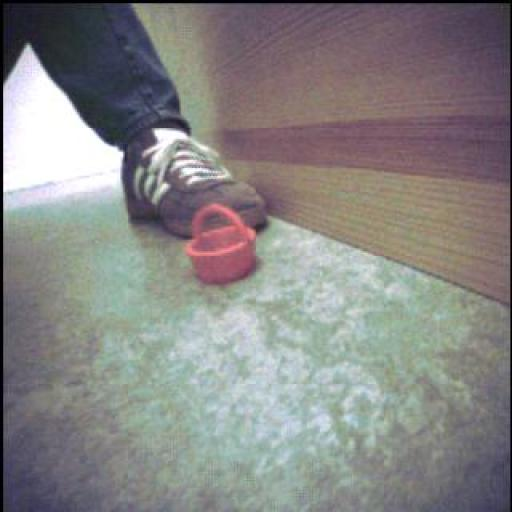Bucket: (187, 206, 257, 286)
